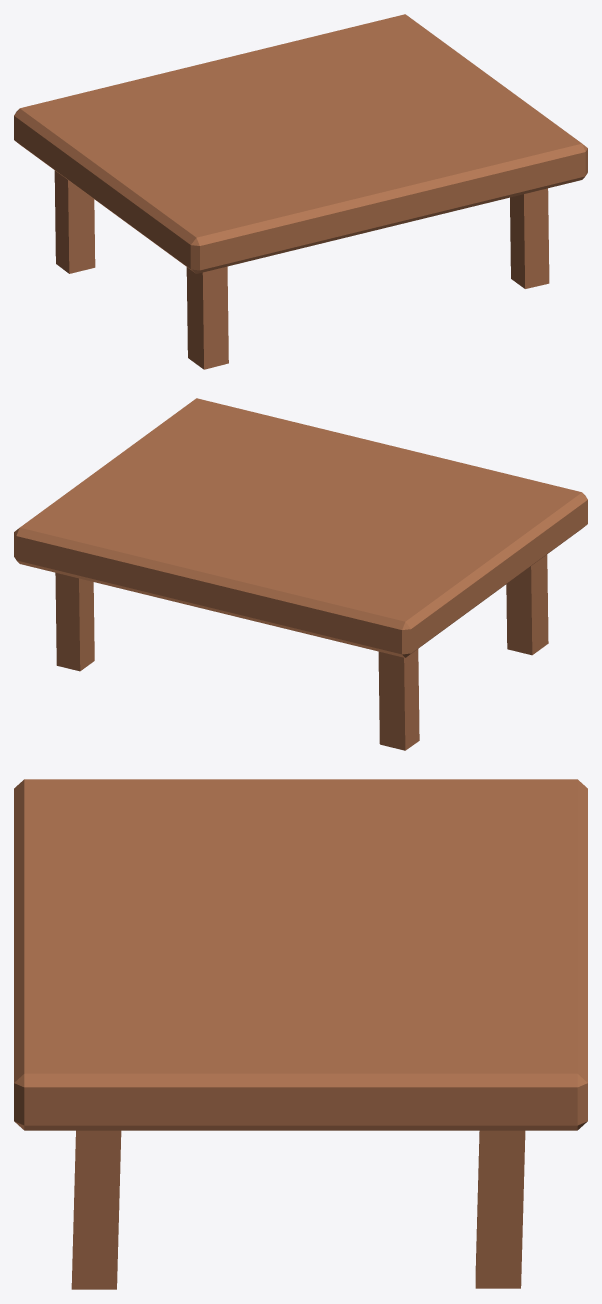
File: maidstage2_table.fbx
The picture shows the model from 3 angles, top to bottom: view 1: azimuth 30°, elevation 25°; view 2: azimuth 150°, elevation 25°; view 3: azimuth 270°, elevation 25°; orthographic projection. The views are drawn at different scales.
Visible parts, largest first — view 1: Cube; view 2: Cube; view 3: Cube.
Part boxes in pixels (left/top/right/bottom): Cube: left=14, top=14, right=587, bottom=369; Cube: left=14, top=398, right=587, bottom=750; Cube: left=14, top=779, right=587, bottom=1289.
Size of the model in its own units: 1600 by 565 by 1280.
